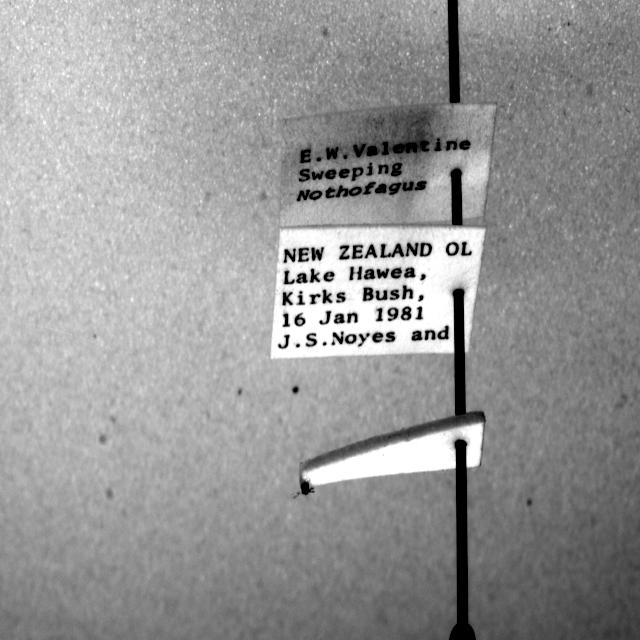typed_label: (271, 225, 485, 358), (280, 103, 496, 227)
